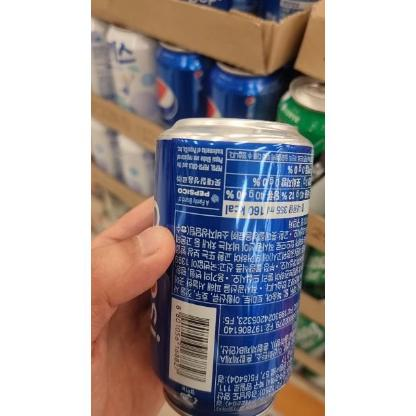Can: (153, 118, 315, 416)
